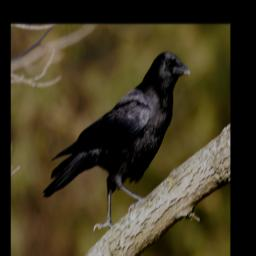Crow: (43, 50, 195, 236)
